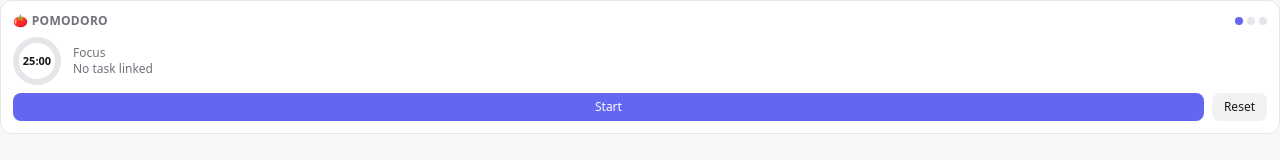
PomodoroWidget › switches phases via the phase dots
Click the button titled "Short break" at x=1251, y=21, box [1247,17,1255,25]
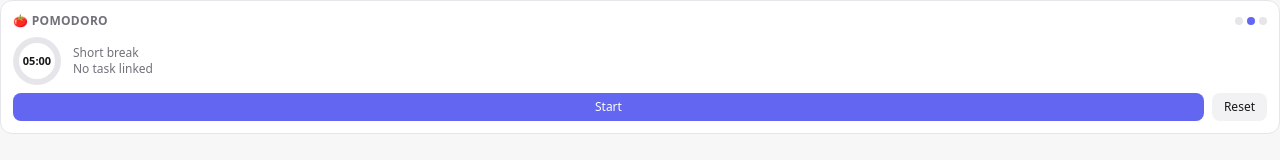
Expected: the text "05:00" is shown, [19,43,55,79]
Expected: the text "Short break" is shown, [73,44,139,61]
